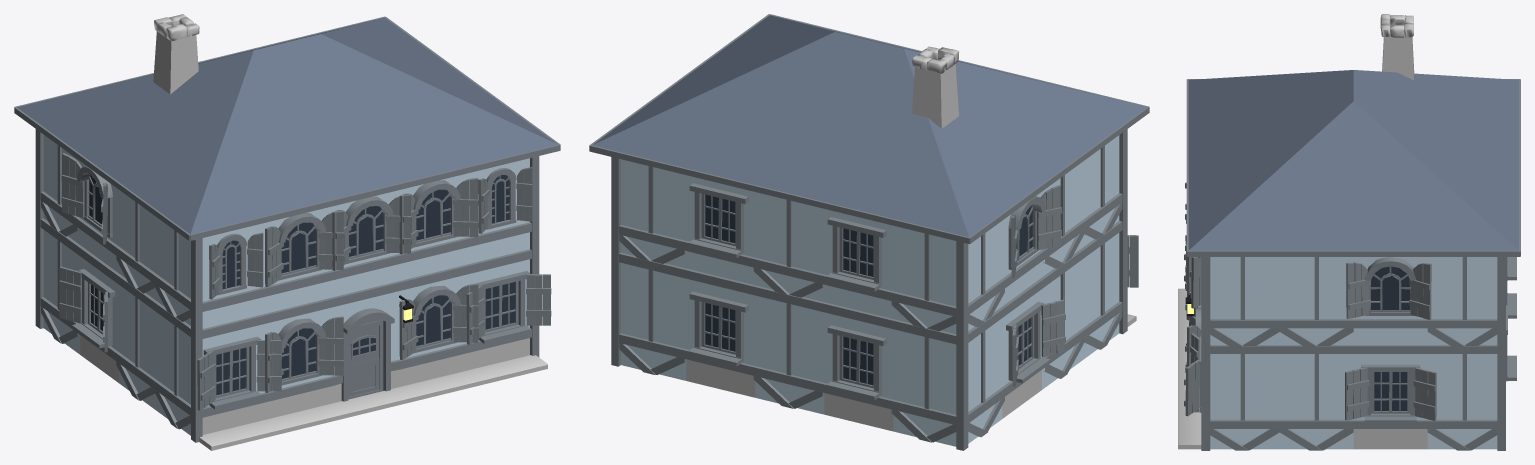
Rendered from hip_house.gltf.
3 views of the same model, side by side, from view 1: azimuth 30°, elevation 25°; view 2: azimuth 150°, elevation 25°; view 3: azimuth 270°, elevation 25° (orthographic). The views are drawn at different scales.
Visible parts, largest first — view 1: HipRoof.077, Wall_Plaster_Straight.027, Wall_Plaster_Straight.028, Wall_Plaster_Window_Wide_Round.010, Wall_Plaster_Window_Wide_Round.004, Wall_Plaster_Straight+upper.065, Wall_Plaster_Straight.023, Wall_Plaster_Window_Thin_Round+upper.039, Wall_Plaster_Window_Wide_Flat.001, Wall_Plaster_Window_Wide_Flat.013, Prop_Chimney.083, Wall_Plaster_Straight+upper.066 (+45 smaller); view 2: HipRoof.077, Wall_Plaster_Straight.019, Wall_Plaster_Straight.016, Wall_Plaster_Straight.022, Wall_Plaster_Straight+upper.057, Wall_Plaster_Straight+upper.054, Wall_Plaster_Straight+upper.060, Wall_Plaster_Window_Wide_Flat.017, Wall_Plaster_Window_Wide_Flat.020, Wall_Plaster_Straight.028, Wall_Plaster_Straight.023, Wall_Plaster_Window_Wide_Flat+upper.058 (+26 smaller); view 3: HipRoof.077, Wall_Plaster_Straight.030, Wall_Plaster_Straight.029, Wall_Plaster_Straight.034, Wall_Plaster_Straight+upper.068, Wall_Plaster_Straight+upper.067, Wall_Plaster_Straight+upper.072, Wall_Plaster_Window_Wide_Flat.031, Window_Wide_Flat1.032, Wall_Plaster_Window_Wide_Round+upper.069, Window_Wide_Round1.070, WindowShutters_Wide_Round_Open.071 (+14 smaller).
Boxes of the visible parts, x1,y1,x2,y2 form: HipRoof.077: (17, 17, 557, 234); Wall_Plaster_Straight.027: (116, 273, 157, 411); Wall_Plaster_Straight.028: (155, 302, 190, 435); Wall_Plaster_Window_Wide_Round.010: (399, 265, 467, 386); Wall_Plaster_Window_Wide_Round.004: (264, 297, 333, 419); Wall_Plaster_Straight+upper.065: (116, 190, 157, 301); Wall_Plaster_Straight.023: (40, 218, 80, 354); Wall_Plaster_Window_Thin_Round+upper.039: (202, 223, 265, 328); Wall_Plaster_Window_Wide_Flat.001: (202, 314, 265, 434); Wall_Plaster_Window_Wide_Flat.013: (466, 249, 531, 370); Prop_Chimney.083: (153, 14, 199, 94); Wall_Plaster_Straight+upper.066: (155, 218, 190, 325); HipRoof.077: (592, 15, 1146, 236); Wall_Plaster_Straight.019: (753, 285, 824, 414); Wall_Plaster_Straight.016: (619, 252, 686, 380); Wall_Plaster_Straight.022: (891, 319, 956, 446); Wall_Plaster_Straight+upper.057: (753, 192, 824, 301); Wall_Plaster_Straight+upper.054: (619, 159, 686, 268); Wall_Plaster_Straight+upper.060: (891, 225, 956, 333); Wall_Plaster_Window_Wide_Flat.017: (684, 268, 755, 397); Wall_Plaster_Window_Wide_Flat.020: (822, 302, 893, 431); Wall_Plaster_Straight.028: (1082, 221, 1122, 360); Wall_Plaster_Straight.023: (968, 306, 1005, 443); Wall_Plaster_Window_Wide_Flat+upper.058: (822, 209, 893, 318); HipRoof.077: (1188, 70, 1518, 250); Wall_Plaster_Straight.030: (1279, 345, 1353, 450); Wall_Plaster_Straight.029: (1210, 345, 1279, 450); Wall_Plaster_Straight.034: (1427, 345, 1497, 450); Wall_Plaster_Straight+upper.068: (1279, 257, 1353, 346); Wall_Plaster_Straight+upper.067: (1210, 257, 1279, 346); Wall_Plaster_Straight+upper.072: (1427, 257, 1497, 346); Wall_Plaster_Window_Wide_Flat.031: (1353, 345, 1427, 449); Window_Wide_Flat1.032: (1361, 364, 1420, 423); Wall_Plaster_Window_Wide_Round+upper.069: (1353, 257, 1427, 344); Window_Wide_Round1.070: (1365, 257, 1415, 315); WindowShutters_Wide_Round_Open.071: (1346, 262, 1431, 319).
Bounding box in the file's own units: 11.19 × 9.25 × 9.27.
